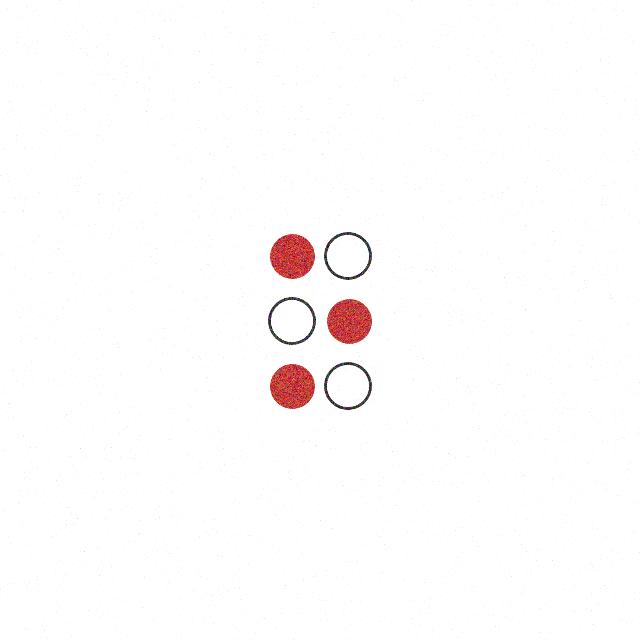O: (269, 229, 373, 412)
